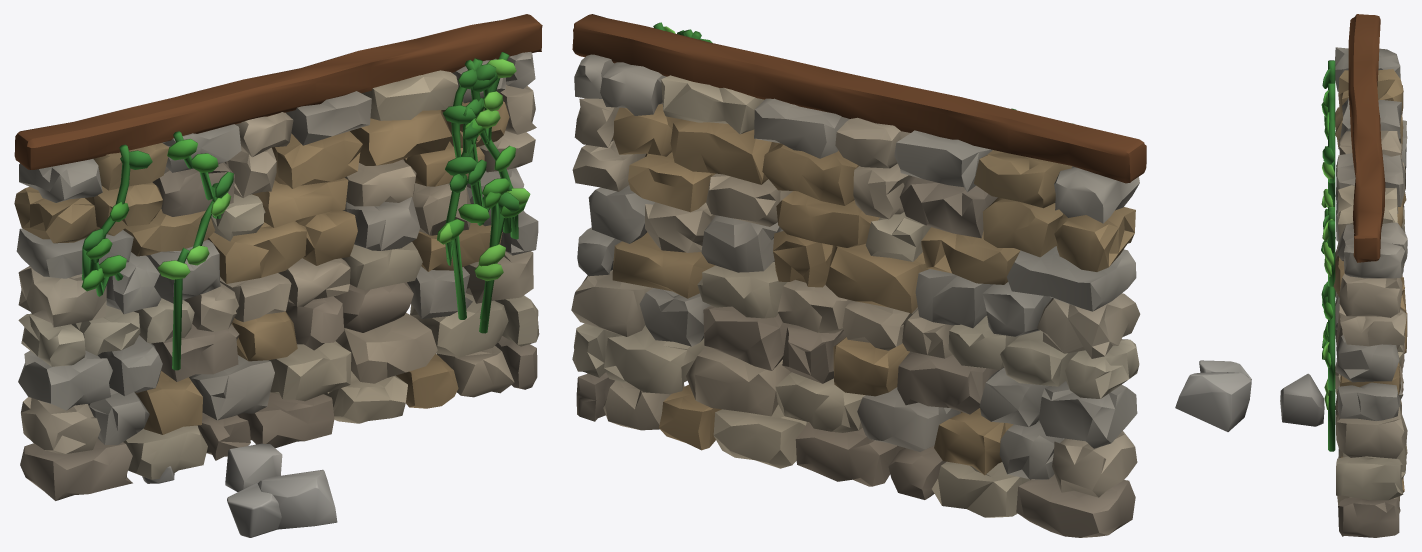
The model's file is glade_mural_wall.glb.
3 views of the same model, side by side, from view 1: azimuth 30°, elevation 25°; view 2: azimuth 150°, elevation 25°; view 3: azimuth 270°, elevation 25° (orthographic). The views are drawn at different scales.
Parts seen in each view (by area): view 1: glade_mural_wall; view 2: glade_mural_wall; view 3: glade_mural_wall.
Part boxes in pixels (left/top/right/bottom): glade_mural_wall: left=14, top=14, right=542, bottom=537; glade_mural_wall: left=571, top=14, right=1146, bottom=537; glade_mural_wall: left=1175, top=14, right=1407, bottom=537.
Size of the model in its own units: 12.64 by 8.83 by 5.67.
